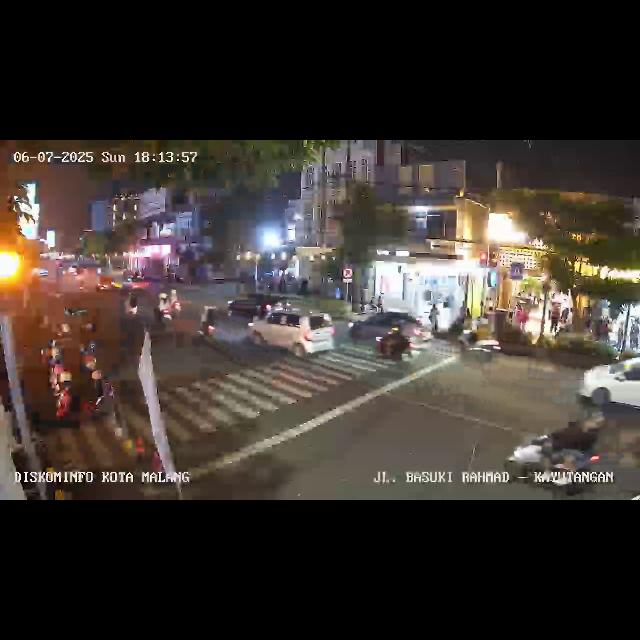car: (249, 307, 337, 361), (578, 356, 640, 424), (346, 310, 424, 356), (225, 293, 292, 319)
motorcycle: (505, 413, 605, 493), (456, 316, 502, 368), (374, 320, 416, 368), (155, 290, 175, 328), (198, 305, 218, 343), (80, 328, 98, 362), (124, 290, 140, 320)
person: (550, 302, 562, 338), (630, 316, 640, 354), (429, 302, 439, 336), (562, 306, 572, 336), (516, 303, 526, 333), (617, 324, 625, 348)
